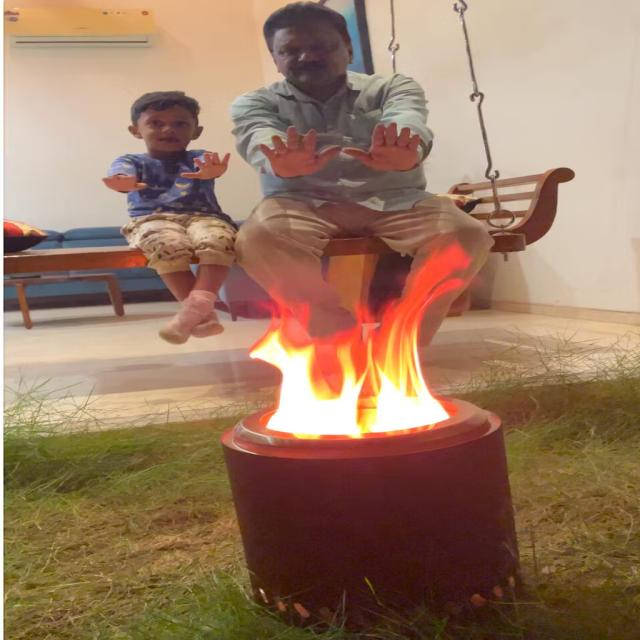fire: (246, 242, 474, 436)
